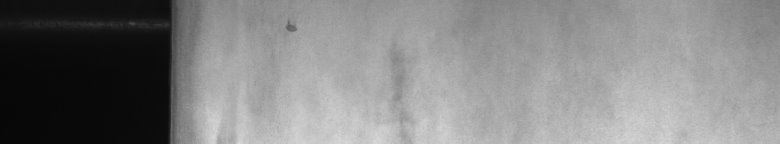fi: (284, 20, 300, 39)
